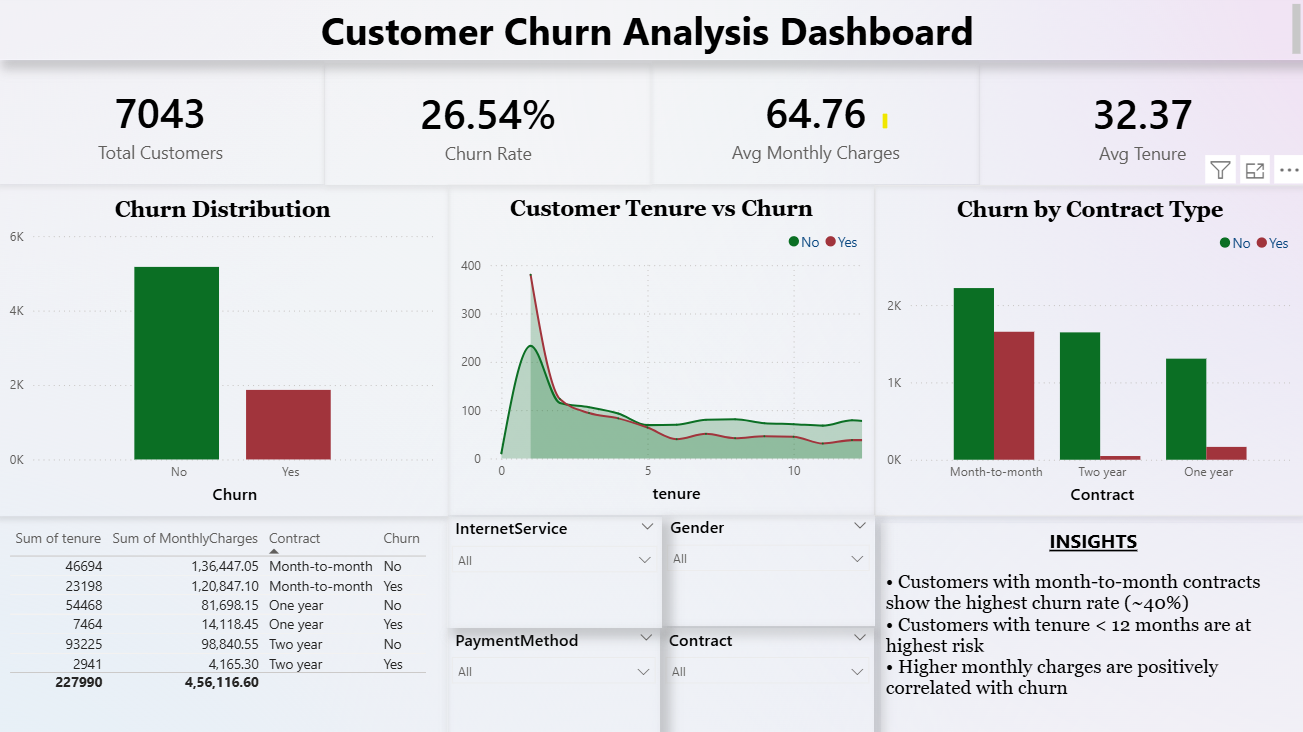

The dashboard page shown, as its layout file describes it:
{"tool":"powerbi","page":{"name":"Page 1","canvas":[1280,720],"ordinal":0},"visuals":[{"type":"card","fields":{"Values":["Telco-Customer-Churn.Total Customers"]},"box":[0,61.1,320,120],"z":0},{"type":"card","fields":{"Values":["Telco-Customer-Churn.Churn Rate"]},"box":[320.4,62.4,320.4,119.8],"z":1000},{"type":"card","fields":{"Values":["Telco-Customer-Churn.Avg Monthly Charges"]},"box":[640.8,61.1,320.4,119.8],"z":2000},{"type":"card","fields":{"Values":["Telco-Customer-Churn.Avg Tenure"]},"box":[961.1,62.4,319.2,119.8],"z":3000},{"type":"clusteredColumnChart","title":"Churn by Contract Type","fields":{"Category":["Telco-Customer-Churn.Contract"],"Series":["Telco-Customer-Churn.Churn"],"Y":["Telco-Customer-Churn.Total Customers"]},"box":[858.4,182.2,421.9,324.1],"z":4000},{"type":"lineChart","title":"Customer Tenure vs Churn","fields":{"Category":["Telco-Customer-Churn.tenure"],"Y":["Telco-Customer-Churn.Total Customers"],"Series":["Telco-Customer-Churn.Churn"]},"box":[441.4,181,417,324.1],"z":5000},{"type":"tableEx","fields":{"Values":["Sum(Telco-Customer-Churn.tenure)","Sum(Telco-Customer-Churn.MonthlyCharges)","Telco-Customer-Churn.Contract","Telco-Customer-Churn.Churn"]},"box":[0,506.3,441.4,214],"z":7000},{"type":"slicer","fields":{"Values":["Telco-Customer-Churn.gender"]},"box":[650.5,505,207.9,108.8],"z":8000},{"type":"slicer","fields":{"Values":["Telco-Customer-Churn.Contract"]},"box":[649.3,615.1,209.1,105.2],"z":9000},{"type":"slicer","fields":{"Values":["Telco-Customer-Churn.PaymentMethod"]},"box":[440.2,615.1,209.1,105.2],"z":10000},{"type":"slicer","fields":{"Values":["Telco-Customer-Churn.InternetService"]},"box":[440.2,506.3,210.3,108.8],"z":11000},{"type":"textbox","box":[0,0,1280.3,59],"z":12000},{"type":"textbox","box":[864,512,416,208],"z":13000},{"type":"columnChart","title":"Churn Distribution","fields":{"Category":["Telco-Customer-Churn.Churn"],"Y":["Telco-Customer-Churn.Total Customers"]},"box":[0,182.2,441.4,324.1],"z":13500}]}

Visuals, with their boxes in screenshot pixels (x1, y1, x2, y2), scaled from the page's 1280x720 canvas onto the 1303x732 screenshot:
card - Telco-Customer-Churn.Total Customers: region(0, 62, 326, 184)
card - Telco-Customer-Churn.Churn Rate: region(326, 63, 652, 185)
card - Telco-Customer-Churn.Avg Monthly Charges: region(652, 62, 978, 184)
card - Telco-Customer-Churn.Avg Tenure: region(978, 63, 1302, 185)
"Churn by Contract Type" clusteredColumnChart: region(874, 185, 1302, 515)
"Customer Tenure vs Churn" lineChart: region(449, 184, 874, 514)
tableEx - Sum(Telco-Customer-Churn.tenure) x Sum(Telco-Customer-Churn.MonthlyCharges): region(0, 515, 449, 731)
slicer - Telco-Customer-Churn.gender: region(662, 513, 874, 624)
slicer - Telco-Customer-Churn.Contract: region(661, 625, 874, 731)
slicer - Telco-Customer-Churn.PaymentMethod: region(448, 625, 661, 731)
slicer - Telco-Customer-Churn.InternetService: region(448, 515, 662, 625)
textbox: region(0, 0, 1302, 60)
textbox: region(880, 521, 1302, 731)
"Churn Distribution" columnChart: region(0, 185, 449, 515)
